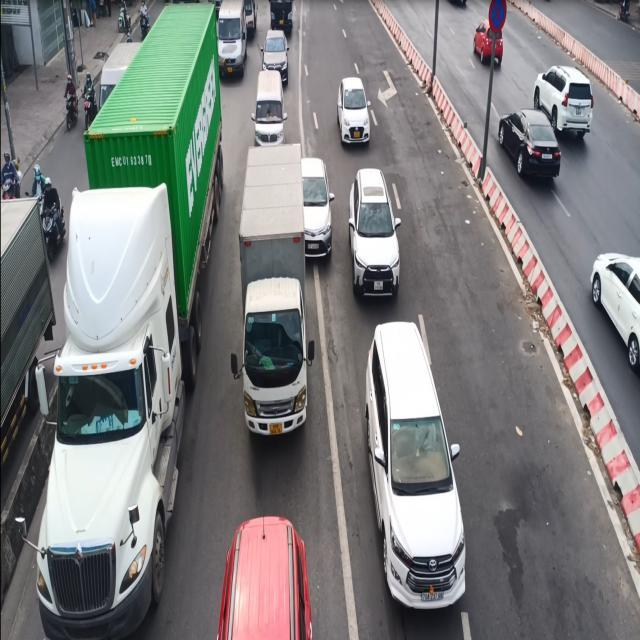car: (363, 320, 466, 610), (215, 515, 313, 639), (347, 167, 402, 300), (589, 251, 639, 376), (497, 108, 561, 179), (300, 156, 335, 259), (336, 76, 371, 145), (473, 19, 503, 67)
truck: (235, 136, 325, 445)
